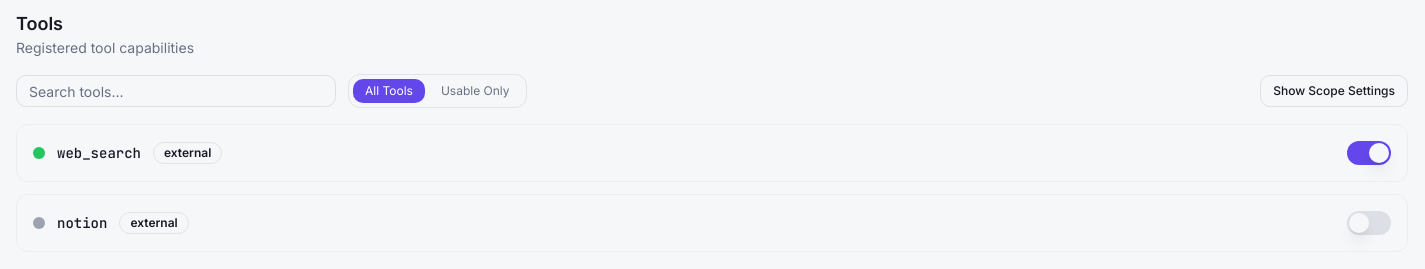
Scenario: UX-M9: Tools search/filter › filters tools by name when search query entered
expect the text "web_search" is shown: met, box top-left (57, 143), bottom-right (141, 163)
expect the text "notion" is shown: met, box top-left (57, 213), bottom-right (107, 233)
Type "web" into the field with test id "tools-search" at [176, 91], box top-left (16, 75), bottom-right (336, 107)
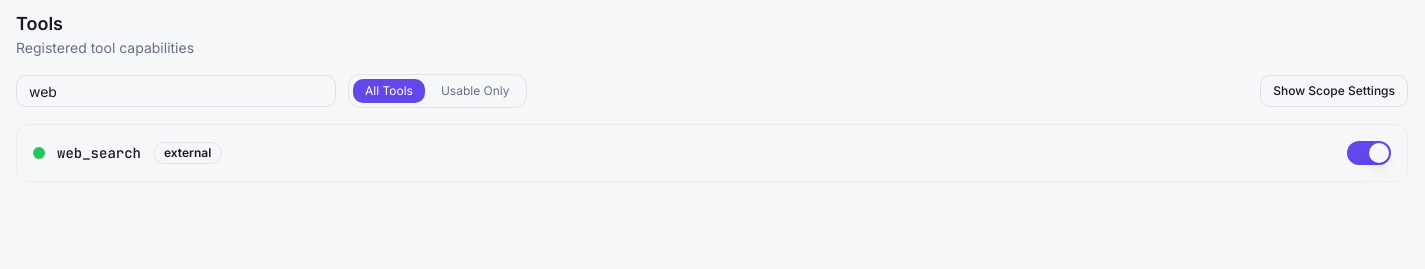
expect the text "web_search" is shown: met, box top-left (57, 143), bottom-right (141, 163)
expect the text "notion" is gone: met
